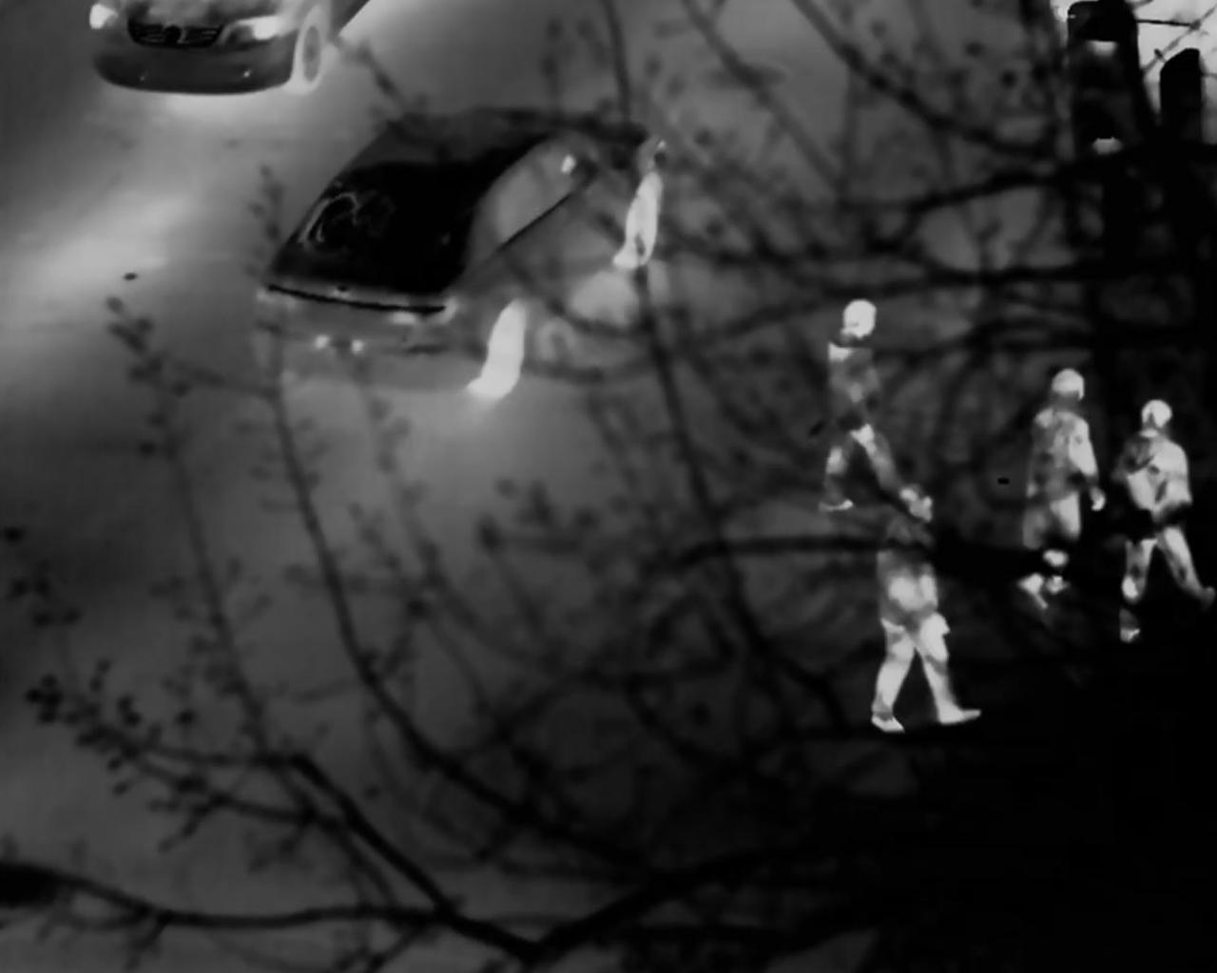person: (867, 483, 979, 733), (814, 297, 890, 519), (1031, 366, 1099, 607), (1128, 395, 1187, 657)
